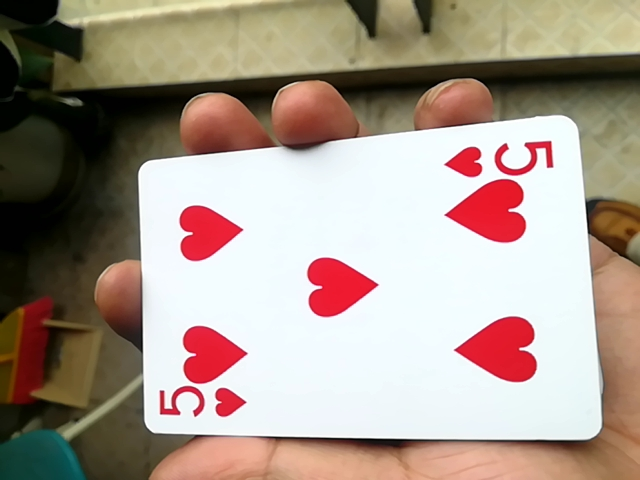hx 5: (131, 122, 594, 447)
